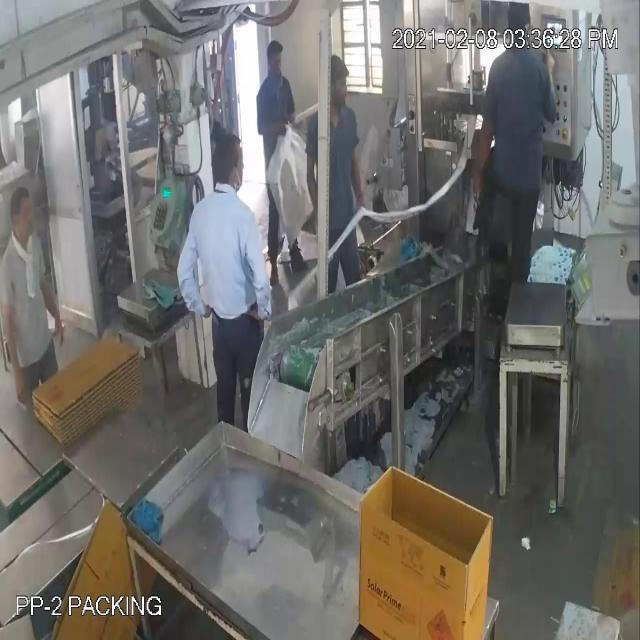No_Gloves: (14, 97, 478, 348)
